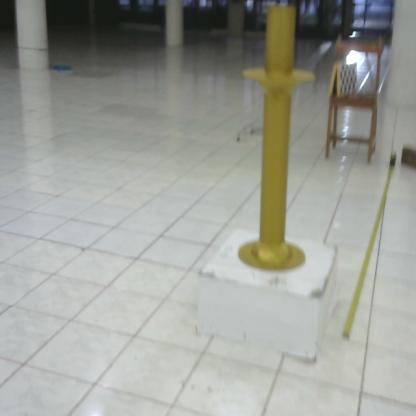pole: (234, 1, 319, 285)
